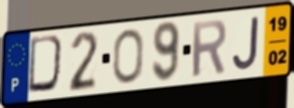2: (68, 30, 100, 94)
9: (151, 20, 181, 86)
D: (25, 33, 68, 96)
J: (231, 14, 262, 72)
O: (112, 27, 145, 85)
R: (190, 17, 229, 79)
